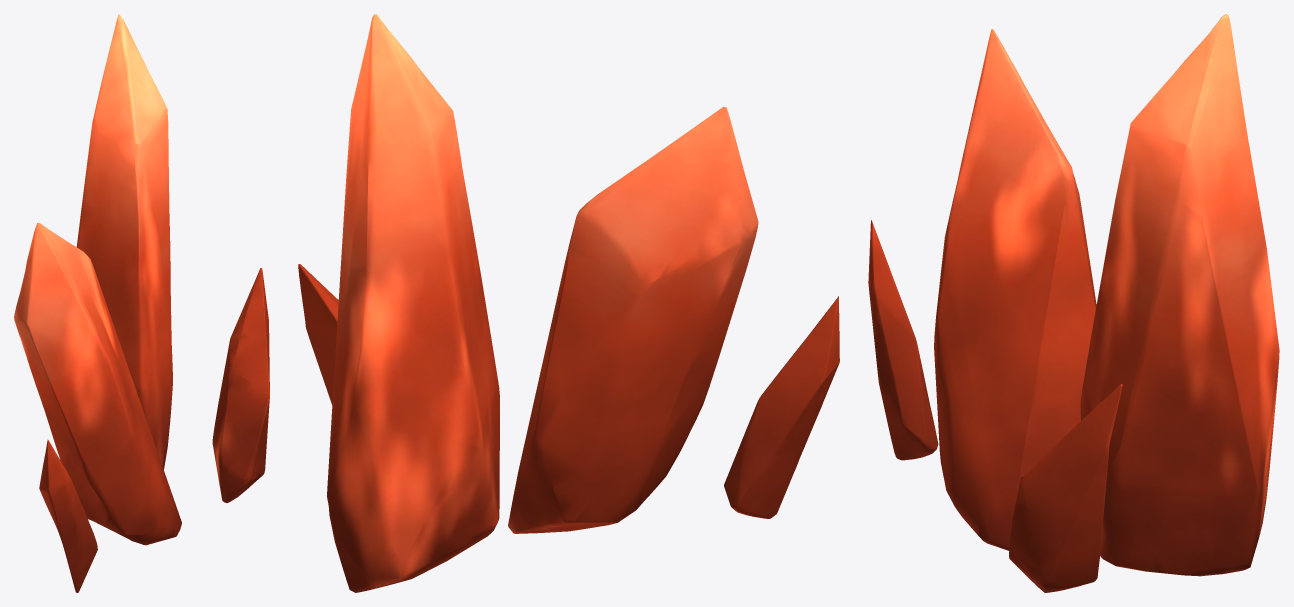
The model's file is k_core_e.glb.
3 renders of one model, left to right at view 1: azimuth 30°, elevation 25°; view 2: azimuth 150°, elevation 25°; view 3: azimuth 270°, elevation 25°, orthographic. The views are drawn at different scales.
Visible parts, largest first — view 1: k_core_e; view 2: k_core_e; view 3: k_core_e.
Boxes of the visible parts, x1,y1,x2,y2 form: k_core_e: [14, 14, 269, 592]; k_core_e: [298, 14, 839, 592]; k_core_e: [868, 14, 1279, 592].
Size of the model in its own units: 1.31 by 1.77 by 1.18.
1 material, 1 textured.
